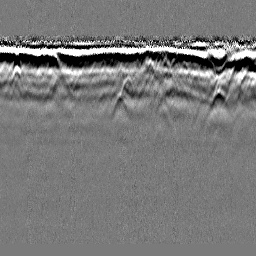cavity: (119, 75, 135, 98)
